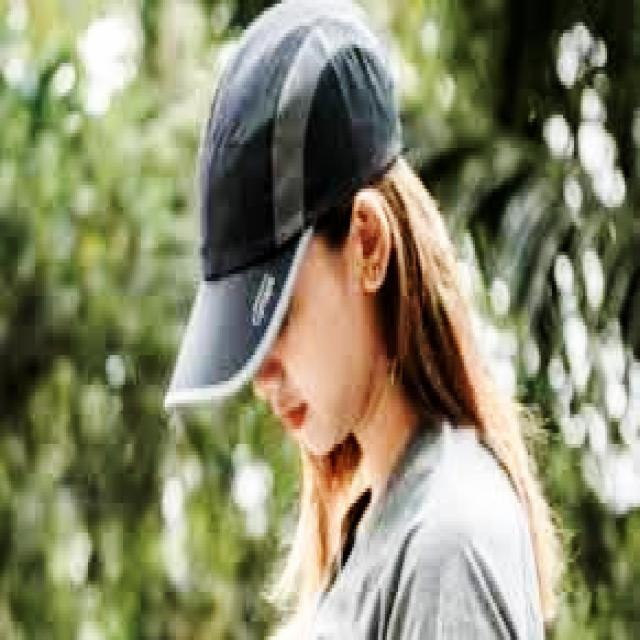TOPI: (157, 0, 411, 431)
